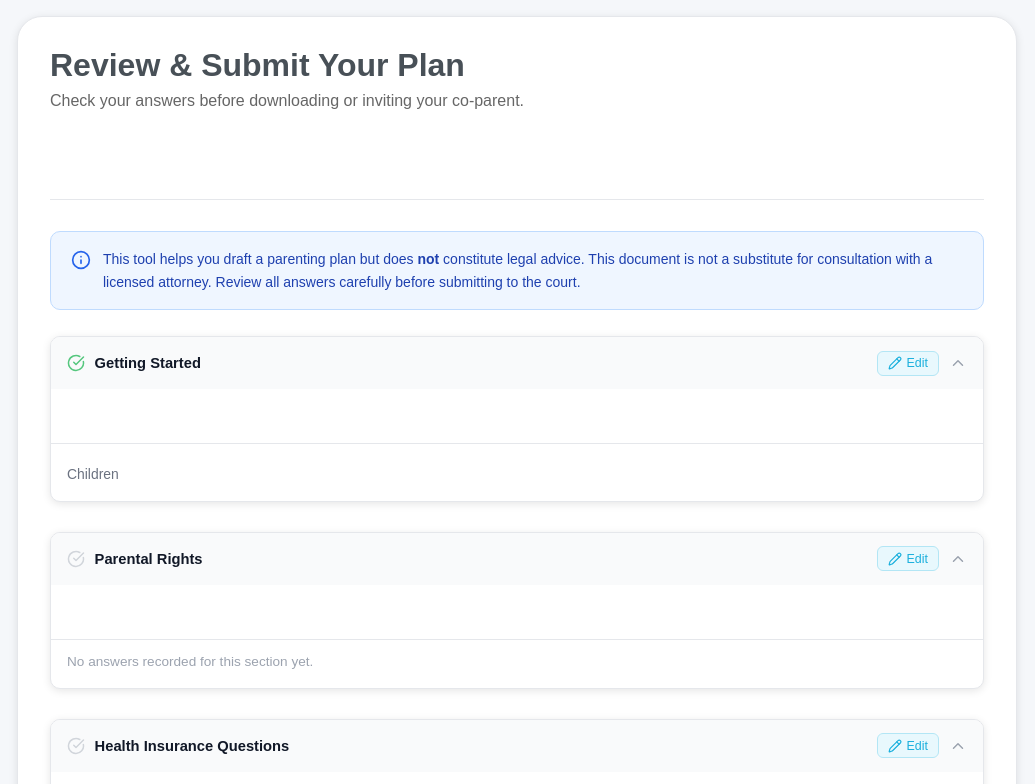
Test case: Review › clicking a section header collapses it
The width and height of the screenshot is (1035, 784).
Step 1. Click the button "Getting Started Edit" → (148, 363), box x1=51 y1=337 x2=983 y2=389
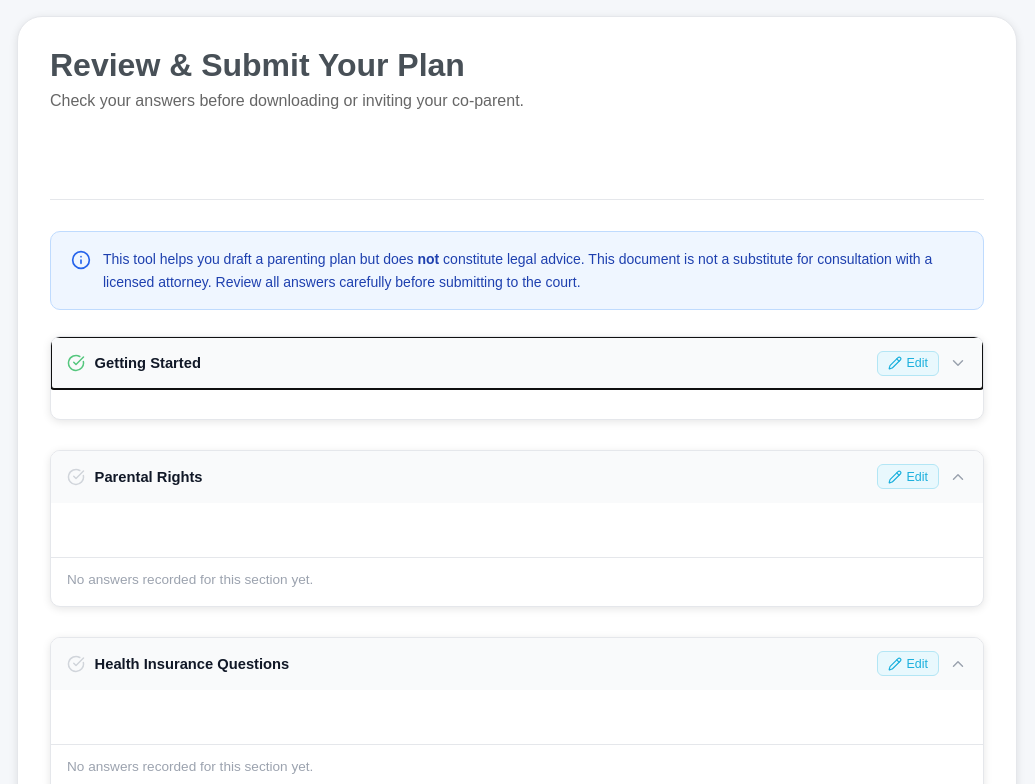
Now the button "Getting Started Edit" is collapsed, box x1=51 y1=337 x2=983 y2=389
